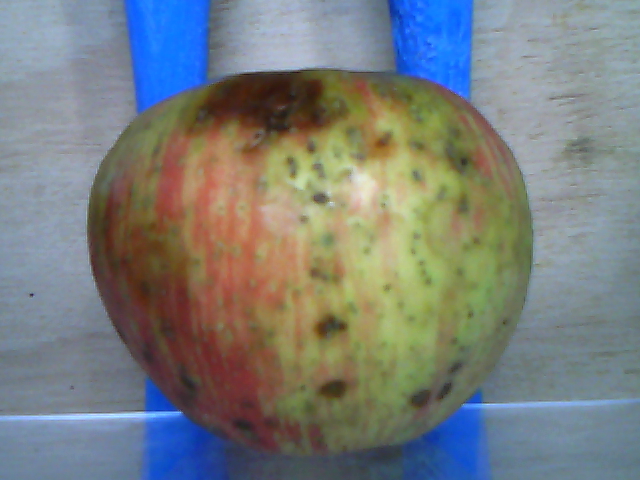bruise: (194, 68, 344, 135)
